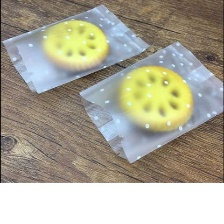snack: (73, 37, 223, 168), (0, 0, 157, 98)
